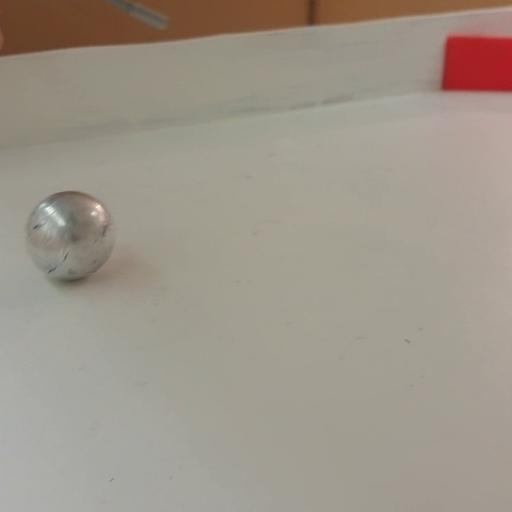alive: (26, 190, 118, 282)
